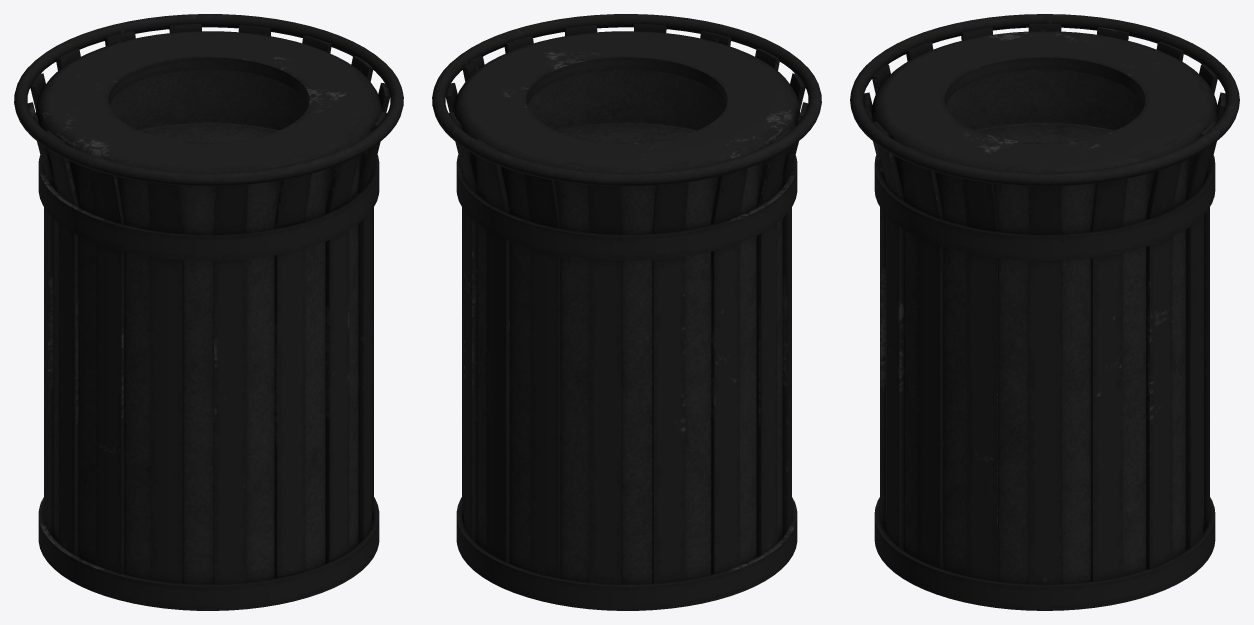
The picture shows the model from 3 angles, left to right: view 1: azimuth 30°, elevation 25°; view 2: azimuth 150°, elevation 25°; view 3: azimuth 270°, elevation 25°; orthographic projection.
Visible parts, largest first — view 1: Receptacle_Black_478; view 2: Receptacle_Black_478; view 3: Receptacle_Black_478.
Part boxes in pixels (x1,y1,x2,y2): Receptacle_Black_478: [14, 14, 403, 610]; Receptacle_Black_478: [432, 14, 821, 610]; Receptacle_Black_478: [850, 14, 1239, 610].
Size of the model in its own units: 0.7366 by 0.9271 by 0.7366.
Materials: 1 (1 with a texture image).
